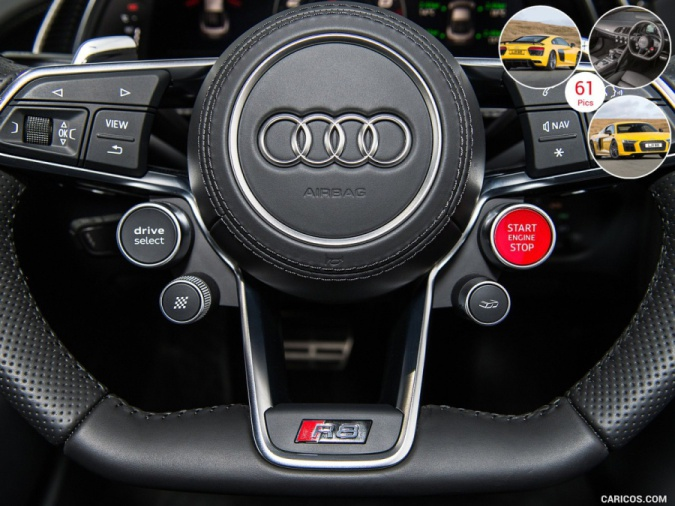audi: (250, 104, 415, 174)
